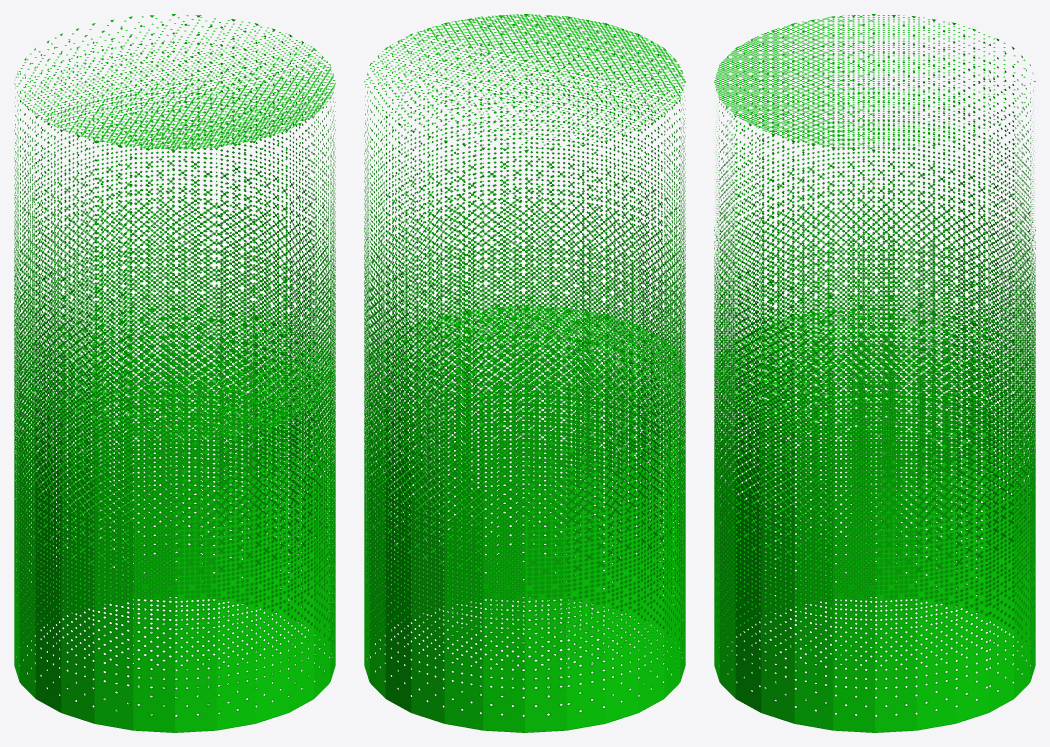
The model's file is switch3.obj.
3 views of the same model, side by side, from view 1: azimuth 30°, elevation 25°; view 2: azimuth 150°, elevation 25°; view 3: azimuth 270°, elevation 25° (orthographic).
Parts seen in each view (by area): view 1: entity0_brush1, entity0_brush0; view 2: entity0_brush1, entity0_brush0; view 3: entity0_brush1, entity0_brush0.
Boxes of the visible parts, x1,y1,x2,y2 form: entity0_brush1: (14,306,335,732); entity0_brush0: (14,14,335,441); entity0_brush1: (364,305,685,732); entity0_brush0: (364,14,685,441); entity0_brush1: (714,306,1035,732); entity0_brush0: (714,14,1035,441).
Bounding box in the file's own units: 64 × 128 × 64.
1 material, 1 textured.
